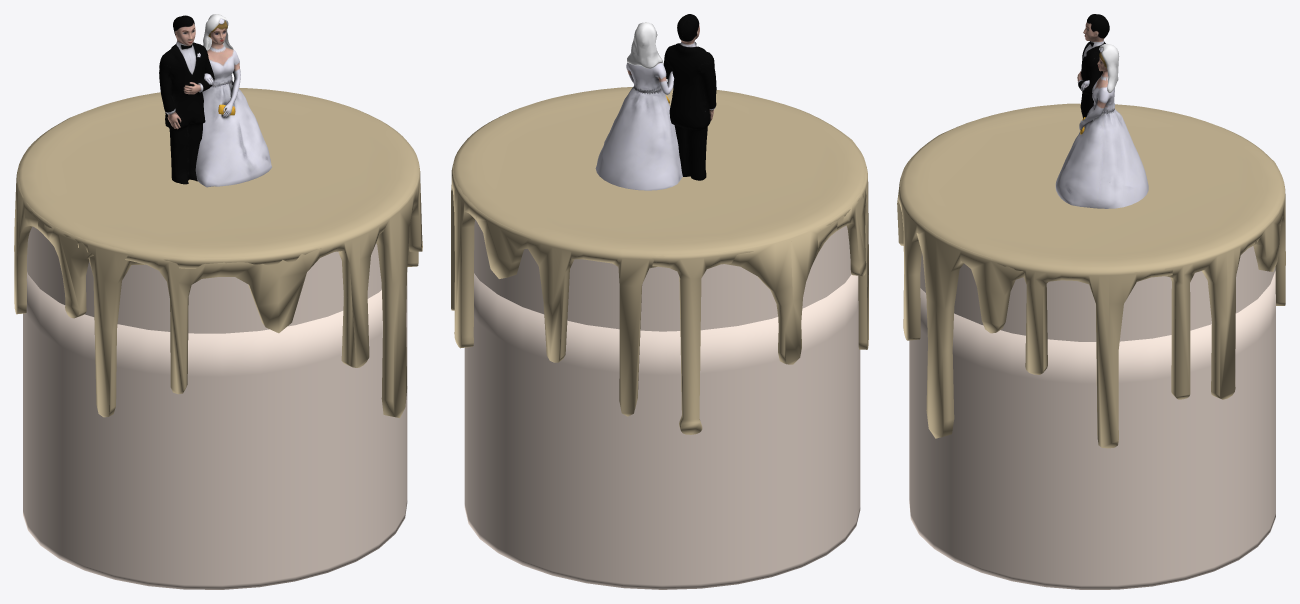
File: 1-tier-white-ganache-bridegroom.glb
3 renders of one model, left to right at view 1: azimuth 30°, elevation 25°; view 2: azimuth 150°, elevation 25°; view 3: azimuth 270°, elevation 25°, orthographic. The views are drawn at different scales.
Visible parts, largest first — view 1: Cylinder.019, tHE ICING, 13501_Cake_Topper_Bride_Groom_v1_L1.004; view 2: Cylinder.019, tHE ICING, 13501_Cake_Topper_Bride_Groom_v1_L1.004; view 3: Cylinder.019, tHE ICING, 13501_Cake_Topper_Bride_Groom_v1_L1.004.
Boxes of the visible parts, x1,y1,x2,y2 form: Cylinder.019: (23, 226, 407, 589); tHE ICING: (14, 88, 422, 417); 13501_Cake_Topper_Bride_Groom_v1_L1.004: (159, 14, 271, 187); Cylinder.019: (464, 219, 860, 589); tHE ICING: (451, 87, 868, 434); 13501_Cake_Topper_Bride_Groom_v1_L1.004: (595, 14, 716, 190); Cylinder.019: (909, 246, 1275, 589); tHE ICING: (897, 103, 1285, 448); 13501_Cake_Topper_Bride_Groom_v1_L1.004: (1055, 14, 1148, 208).
Bounding box in the file's own units: 2.8 × 3.7 × 2.71.
Materials: 3 (1 with a texture image).
